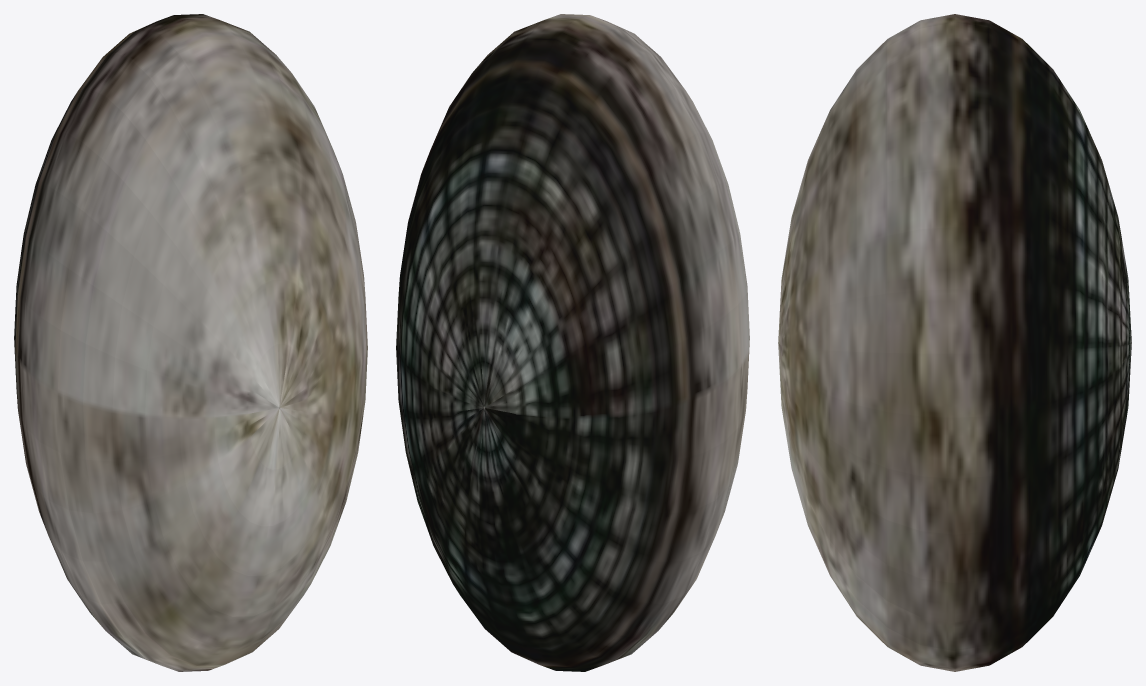
The picture shows the model from 3 angles, left to right: view 1: azimuth 30°, elevation 25°; view 2: azimuth 150°, elevation 25°; view 3: azimuth 270°, elevation 25°; orthographic projection.
Parts seen in each view (by area): view 1: Sphere.014; view 2: Sphere.014; view 3: Sphere.014.
Part boxes in pixels (x1=…): Sphere.014: x1=14, y1=14, x2=367, y2=671; Sphere.014: x1=396, y1=14, x2=749, y2=671; Sphere.014: x1=778, y1=14, x2=1131, y2=671.
Bounding box in the file's own units: 10 × 20 × 10.
Materials: 1 (1 with a texture image).
